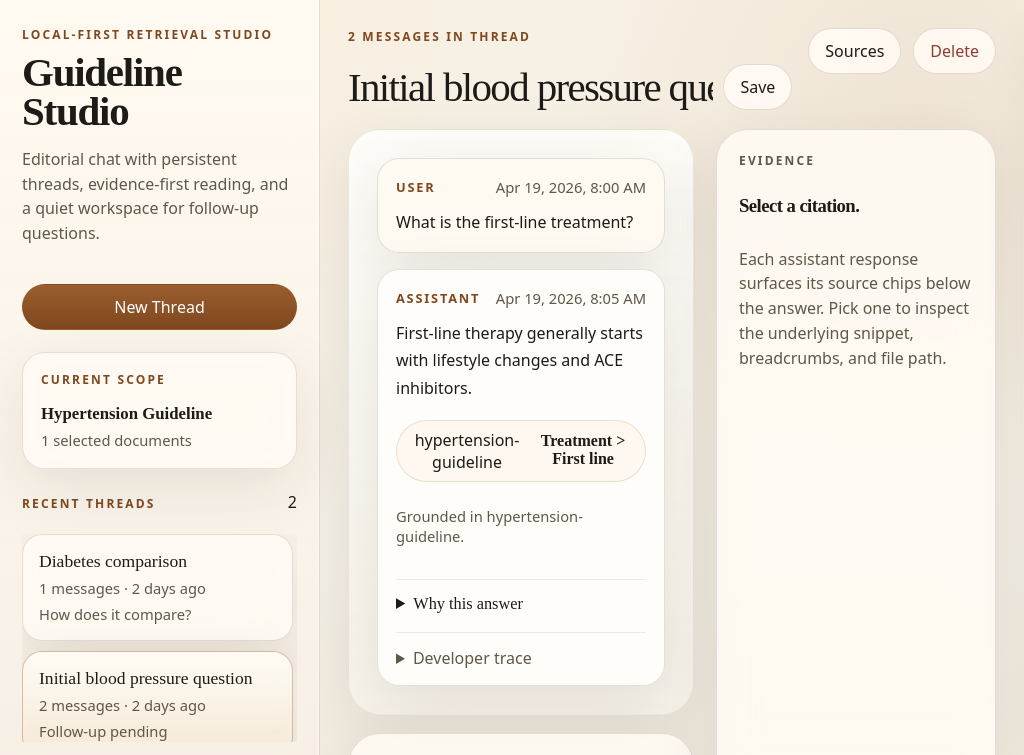
Scenario: App › opens evidence in the desktop pane when a citation chip is selected
Click the button "hypertension-guideline Treatment > First line" at (521, 451), box [396,420,646,482]
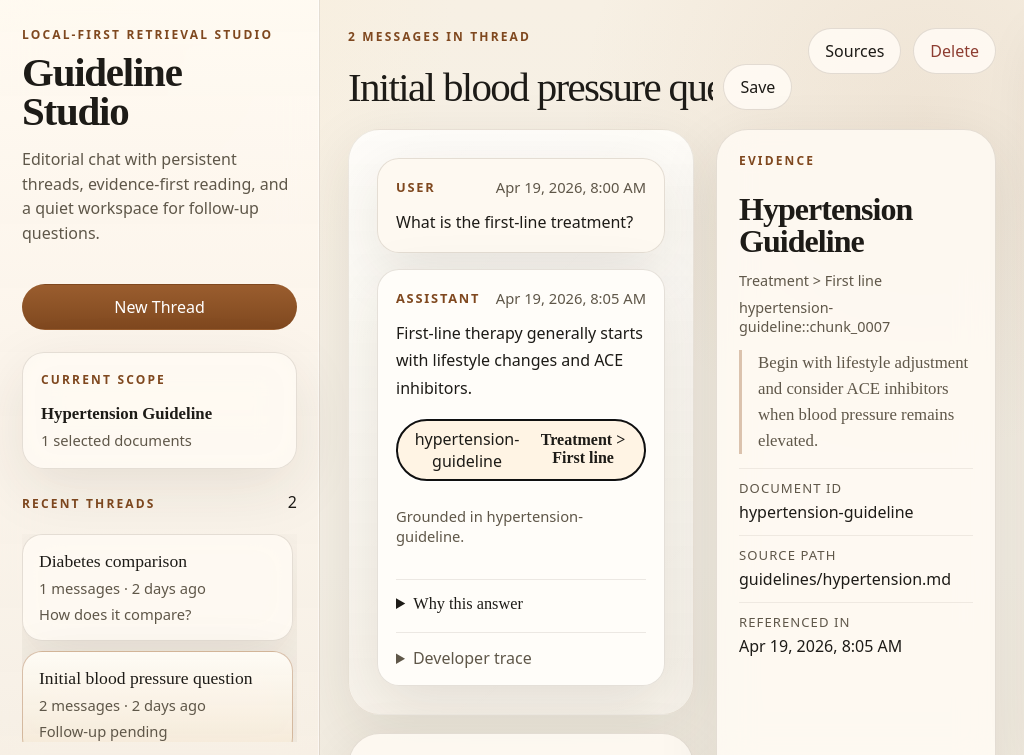
Expected: the heading "Hypertension Guideline" is shown, [739,191,912,259]
